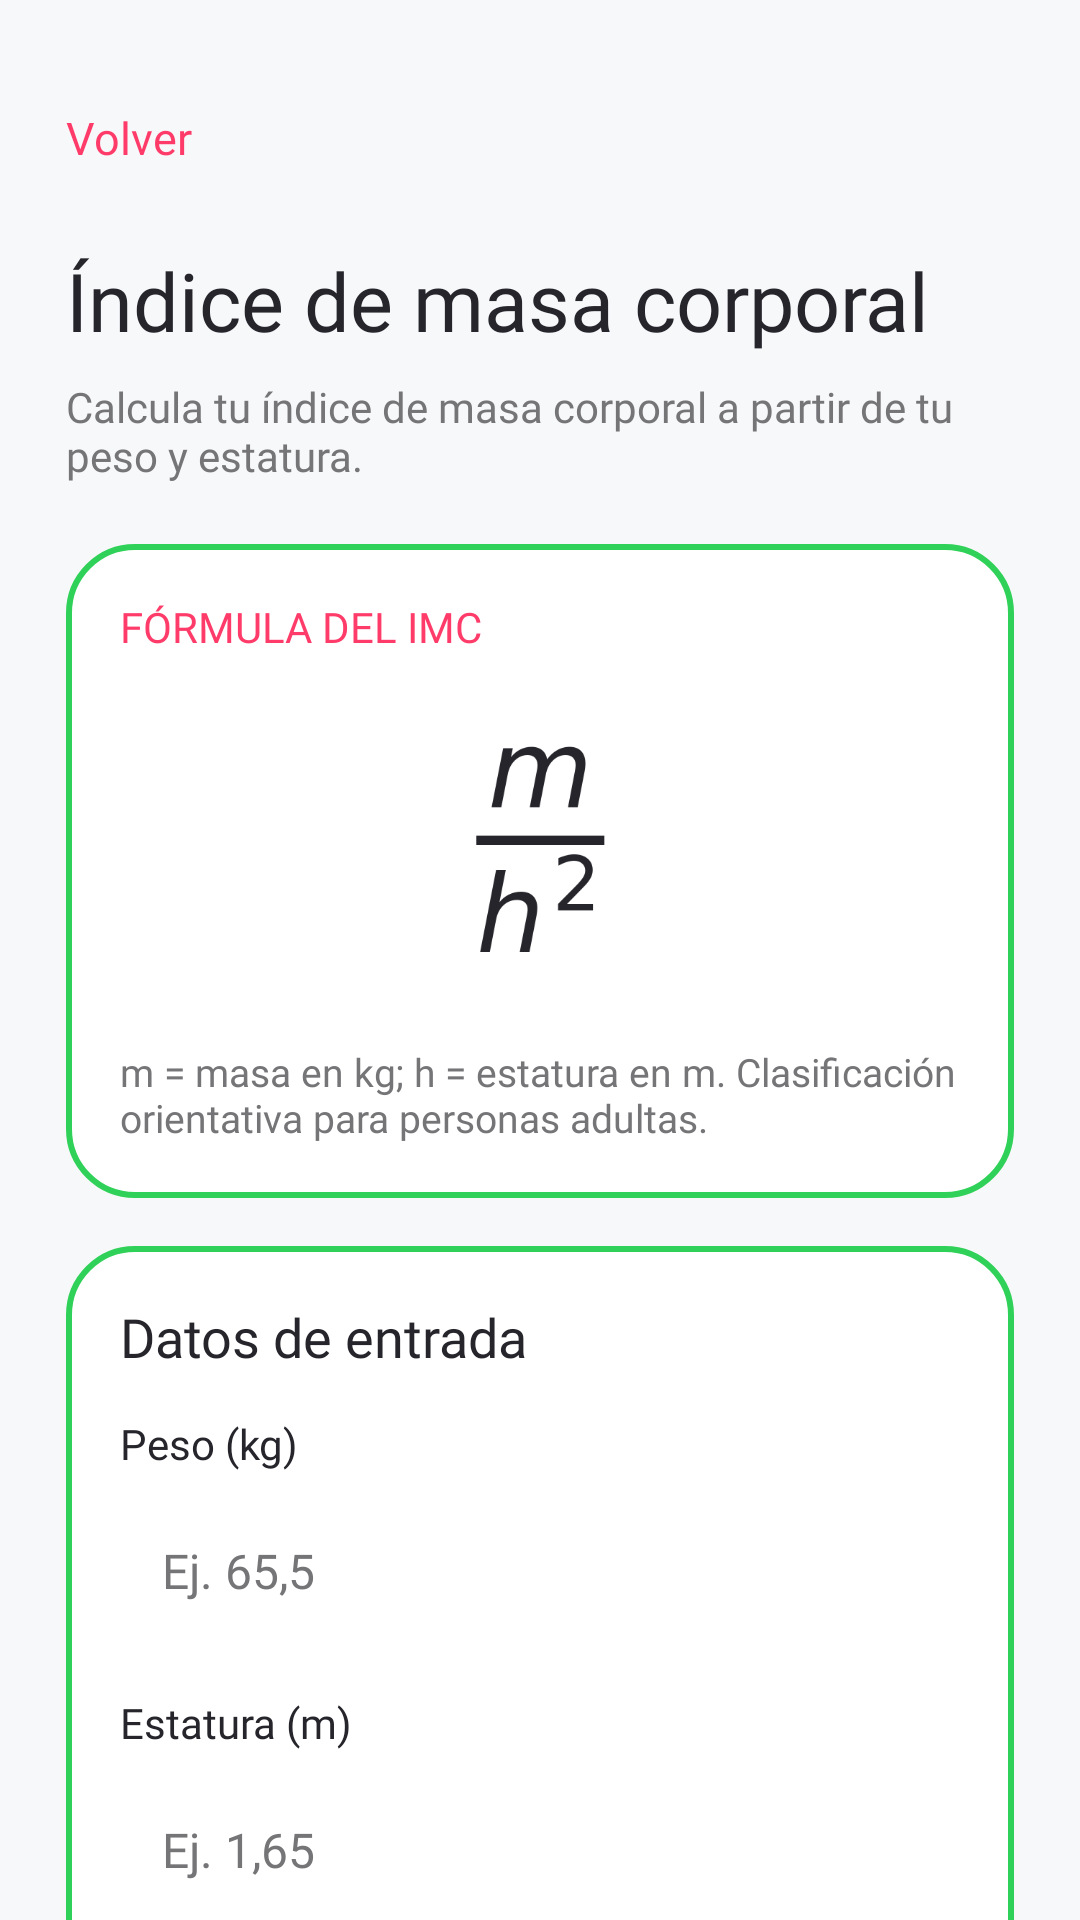

Screen size 1080x1920. Icon name, then its box in pixels as bbox=[x1, y1, x2, y2]:
imc formula: bbox=[476, 746, 605, 952]
